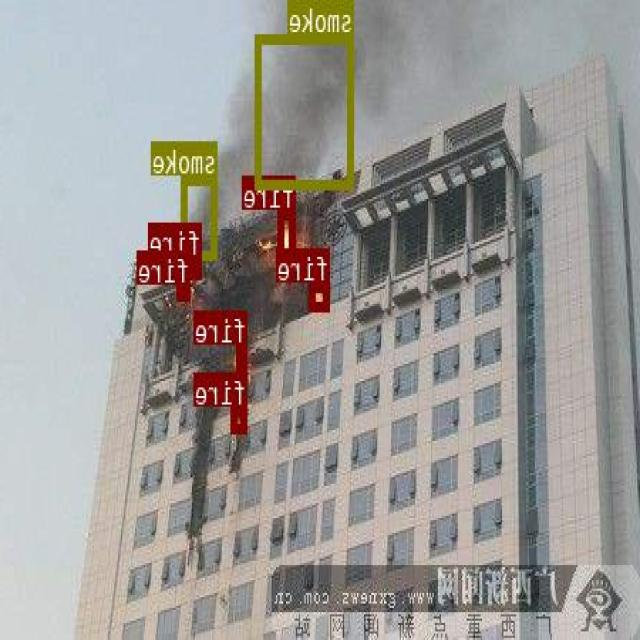fire: (279, 208, 297, 258), (310, 282, 331, 310), (232, 406, 247, 431), (238, 343, 247, 379), (189, 255, 203, 278), (178, 284, 192, 299)
smoke: (257, 32, 354, 188), (182, 175, 219, 258)
